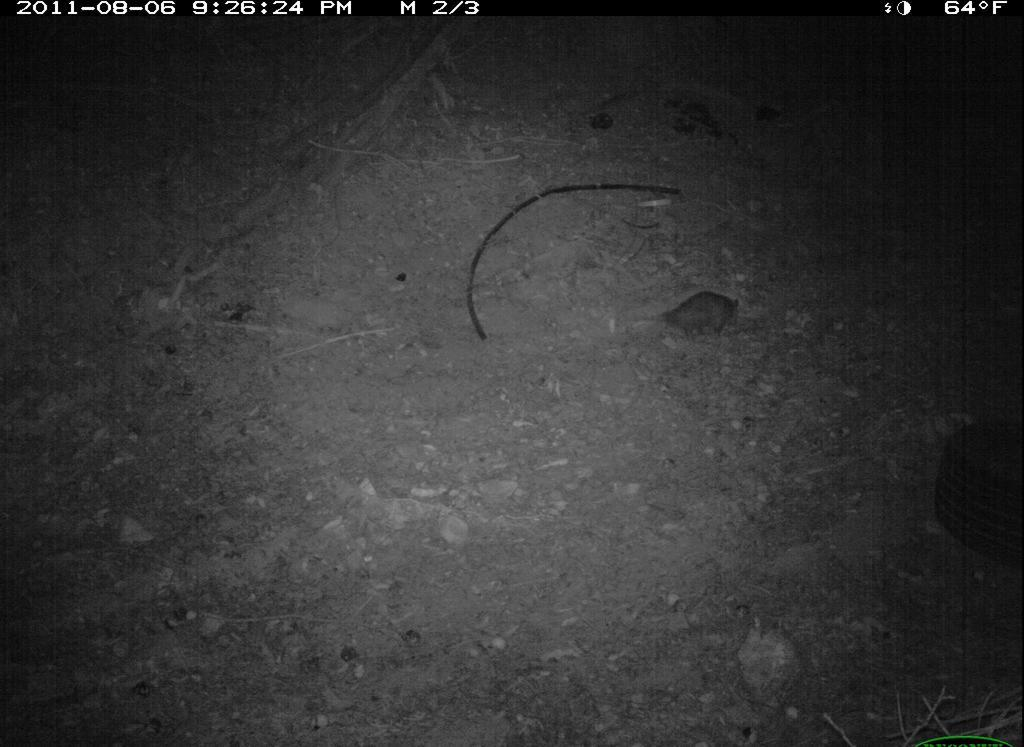opossum: (605, 269, 776, 355)
